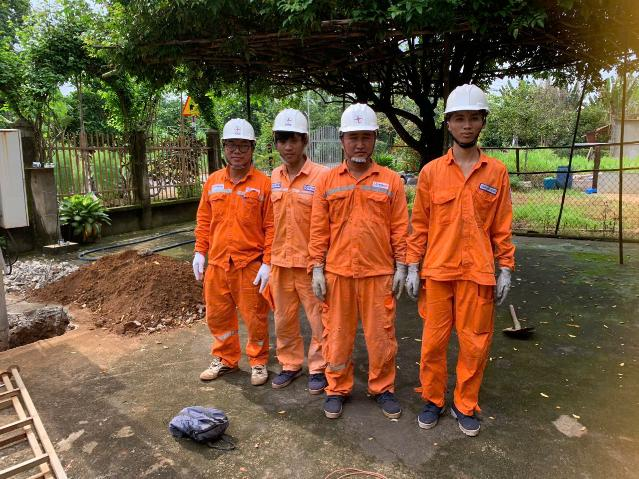gloves: (490, 261, 524, 312), (404, 256, 426, 307), (307, 261, 332, 305), (249, 259, 279, 291), (390, 257, 411, 301), (191, 252, 215, 283)
helmet: (440, 79, 492, 115), (337, 102, 392, 136), (271, 106, 311, 140), (219, 115, 258, 144)
shoes: (448, 402, 491, 441), (373, 381, 405, 422), (416, 398, 447, 433), (195, 358, 240, 382), (322, 392, 351, 424), (273, 363, 302, 390), (251, 359, 273, 392), (308, 370, 331, 395)
